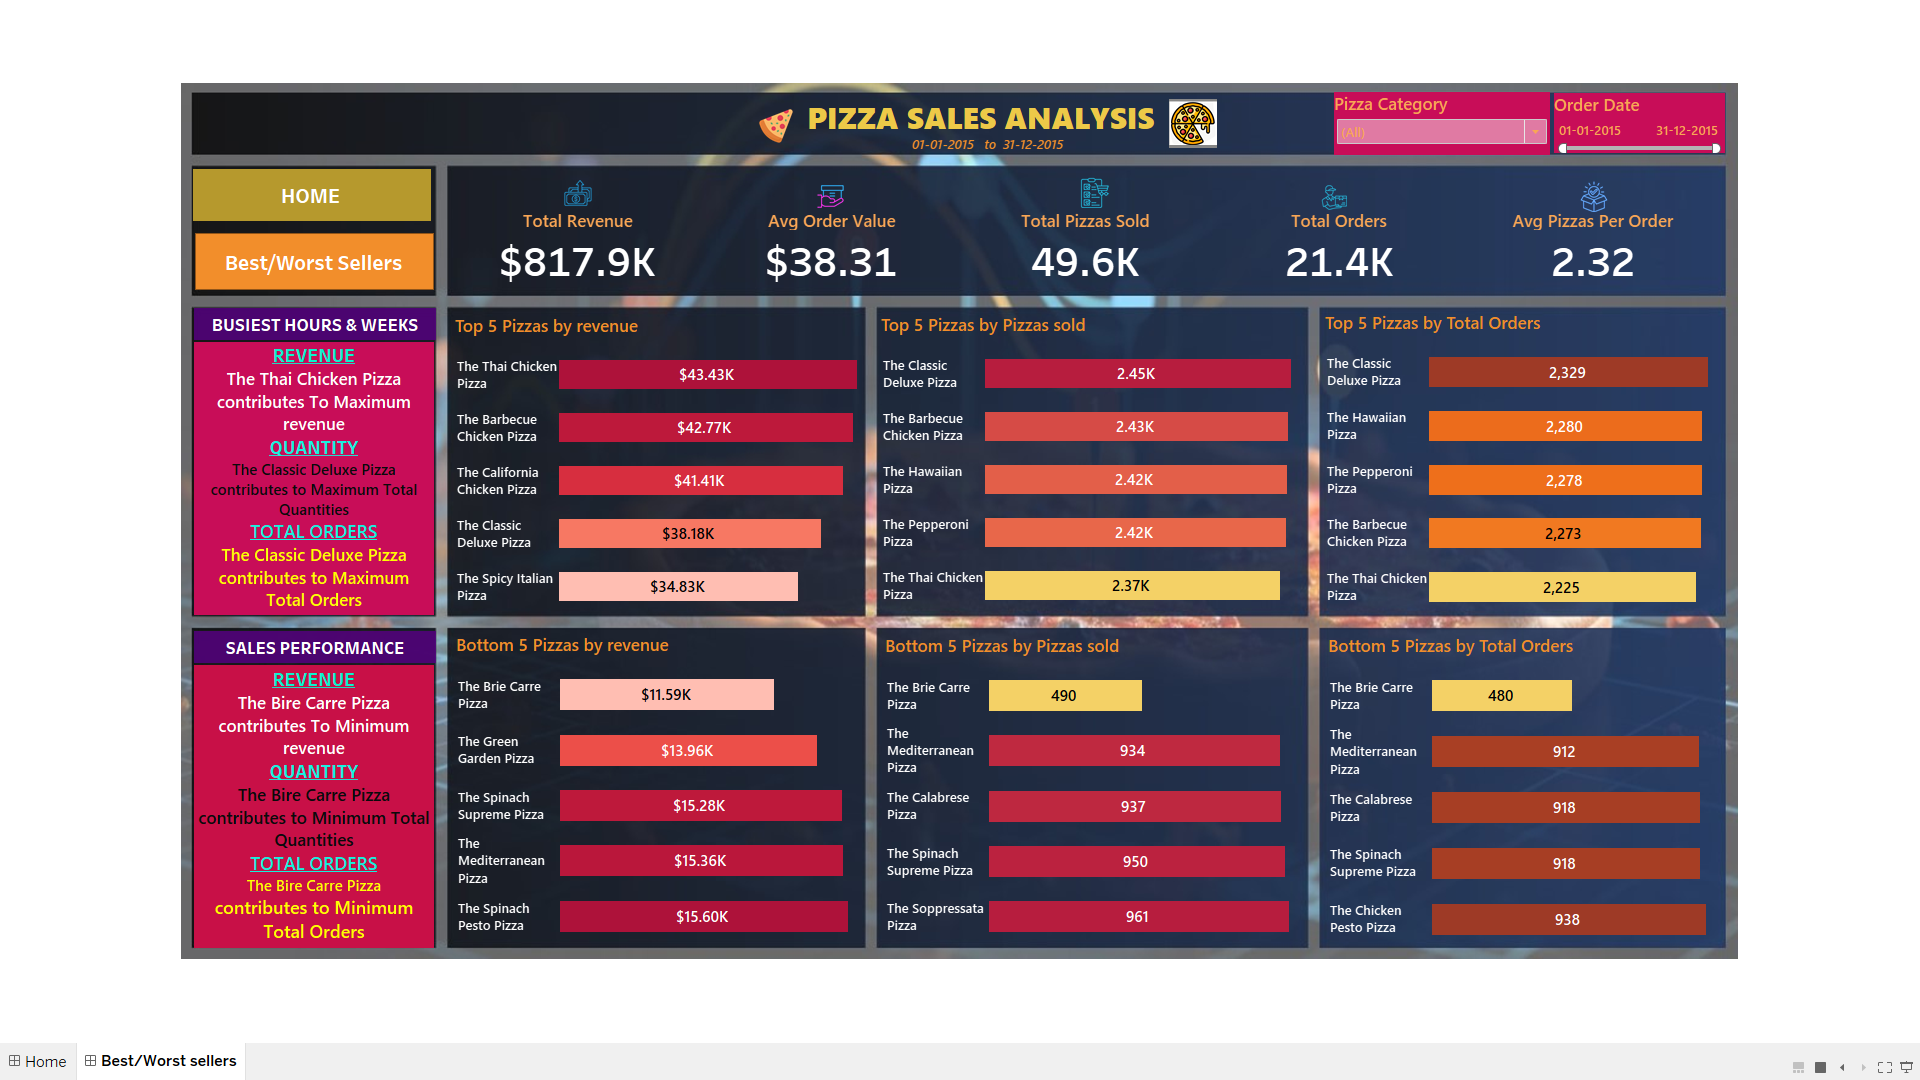

Layout of this report page (visuals, bound fields, positions):
{"tool":"tableau","page":{"name":"Best/Worst sellers","canvas":[1600,900],"ordinal":0},"visuals":[{"type":"image","param":"Image/Pizza Tableau 2.jpg","box":[8,8,1584,884]},{"type":"filter","title":"KPI Banner","param":"[federated.1ifl9po009vs8s1crr14n1b4rqij].[none:PIZZA_CATEGORY:nk]","box":[1174,21,216,63]},{"type":"filter","title":"KPI Banner","param":"[federated.1ifl9po009vs8s1crr14n1b4rqij].[none:ORDER_DATE:qk]","box":[1394,22,171,60]},{"type":"text","box":[644,26,354,40]},{"type":"image","param":"Image/Screenshot (139).png","box":[1009,28,48,49]},{"type":"worksheet","title":"Sheet 7","mark":"Automatic","box":[637,32,382,67]},{"type":"image","param":"Image/pizza-slice.png","box":[589,37,53,35]},{"type":"dashboard-object","box":[33,98,241,52]},{"type":"image","param":"Image/profit-growth.png","box":[377,106,81,31]},{"type":"image","param":"Image/order-delivery.png","box":[915,106,40,31]},{"type":"image","param":"Image/shipping-box.png","box":[635,110,71,30]},{"type":"image","param":"Image/order (1).png","box":[1409,110,50,31]},{"type":"image","param":"Image/delivery-man.png","box":[1151,113,46,26]},{"type":"worksheet","title":"KPI Banner","mark":"Automatic","box":[291,139,1269,81]},{"type":"dashboard-object","box":[35,162,239,57]},{"type":"worksheet","title":"Top 5 Pizzas by Total Orders","mark":"Automatic","rows":["PIZZA_NAME"],"cols":["Calculation_685391588354027521"],"box":[1161,236,401,307]},{"type":"text","box":[34,237,242,32]},{"type":"worksheet","title":"Top 5 Pizzas by Pizzas sold","mark":"Automatic","rows":["PIZZA_NAME"],"cols":["Calculation_685391588354695171"],"box":[717,238,429,303]},{"type":"worksheet","title":"Top 5 Pizzas by revenue","mark":"Automatic","rows":["PIZZA_NAME"],"cols":["Calculation_685391588353294336"],"box":[291,239,421,303]},{"type":"text","box":[34,271,240,273]},{"type":"worksheet","title":"Bottom 5 Pizzas by revenue","mark":"Automatic","rows":["PIZZA_NAME"],"cols":["Calculation_685391588353294336"],"box":[292,558,410,315]},{"type":"text","box":[31,559,242,32]},{"type":"worksheet","title":"Bottom 5 Pizzas by Pizzas sold","mark":"Automatic","rows":["PIZZA_NAME"],"cols":["Calculation_685391588354695171"],"box":[721,559,423,314]},{"type":"worksheet","title":"Bottom 5 Pizzas by Total Orders","mark":"Automatic","rows":["PIZZA_NAME"],"cols":["Calculation_685391588354027521"],"box":[1164,559,396,317]},{"type":"text","box":[34,594,240,283]}]}

Visuals, with their boxes on the page's 1600x900 design canvas (x1, y1, x2, y2). These are canvas units, not pixel positions in the 1920x1080 screenshot, which may show the page scaled, cropped or inside an application window:
image: bbox=[8, 8, 1592, 892]
"KPI Banner" filter: bbox=[1174, 21, 1390, 84]
"KPI Banner" filter: bbox=[1394, 22, 1565, 82]
text: bbox=[644, 26, 998, 66]
image: bbox=[1009, 28, 1057, 77]
"Sheet 7" worksheet: bbox=[637, 32, 1019, 99]
image: bbox=[589, 37, 642, 72]
dashboard-object: bbox=[33, 98, 274, 150]
image: bbox=[377, 106, 458, 137]
image: bbox=[915, 106, 955, 137]
image: bbox=[635, 110, 706, 140]
image: bbox=[1409, 110, 1459, 141]
image: bbox=[1151, 113, 1197, 139]
"KPI Banner" worksheet: bbox=[291, 139, 1560, 220]
dashboard-object: bbox=[35, 162, 274, 219]
"Top 5 Pizzas by Total Orders" worksheet: bbox=[1161, 236, 1562, 543]
text: bbox=[34, 237, 276, 269]
"Top 5 Pizzas by Pizzas sold" worksheet: bbox=[717, 238, 1146, 541]
"Top 5 Pizzas by revenue" worksheet: bbox=[291, 239, 712, 542]
text: bbox=[34, 271, 274, 544]
"Bottom 5 Pizzas by revenue" worksheet: bbox=[292, 558, 702, 873]
text: bbox=[31, 559, 273, 591]
"Bottom 5 Pizzas by Pizzas sold" worksheet: bbox=[721, 559, 1144, 873]
"Bottom 5 Pizzas by Total Orders" worksheet: bbox=[1164, 559, 1560, 876]
text: bbox=[34, 594, 274, 877]
